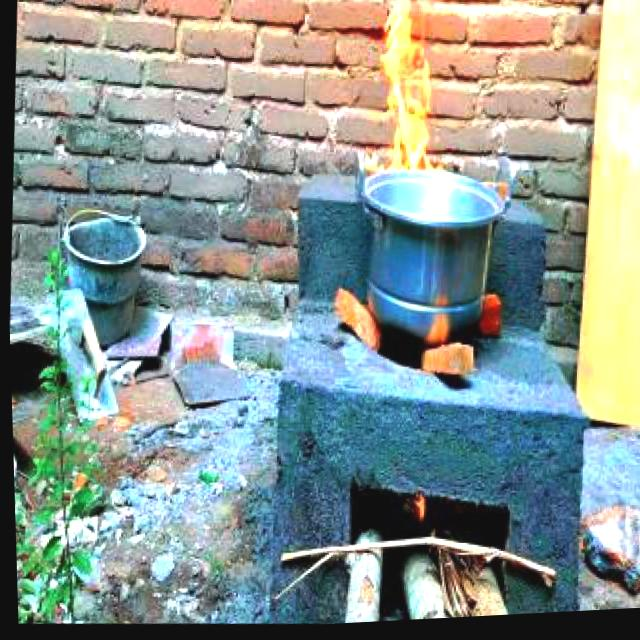helmet: (354, 0, 453, 202), (418, 282, 459, 359), (407, 482, 429, 529)
